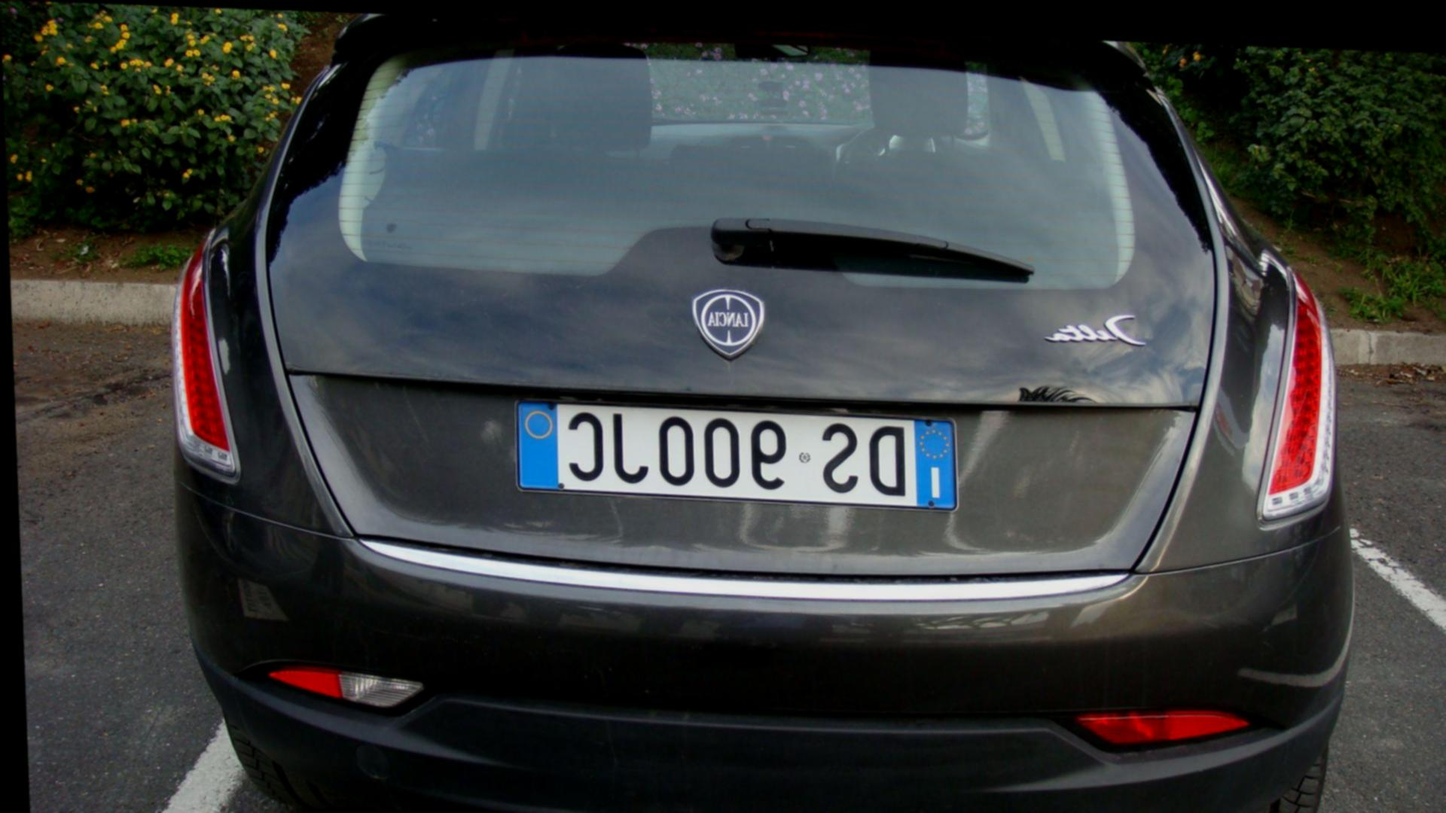License_Plate: (513, 396, 961, 513)
